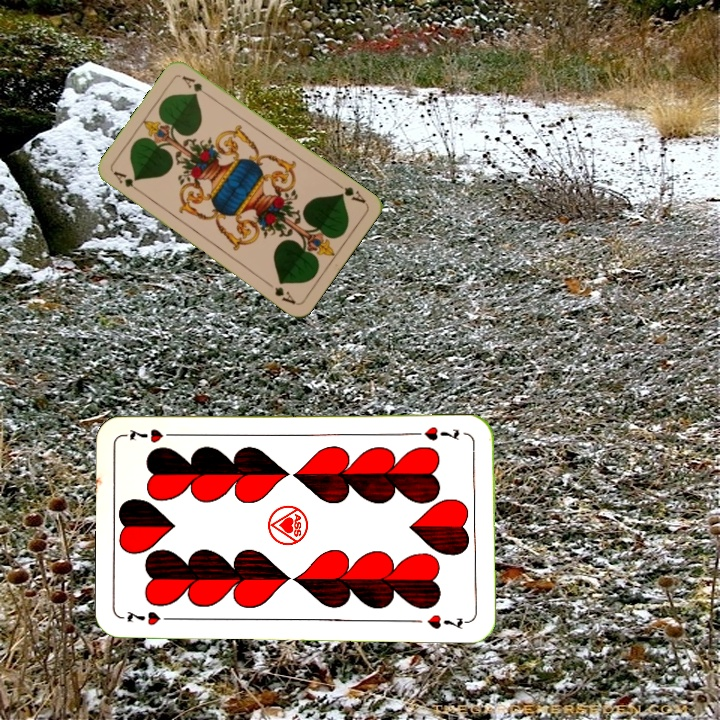GA: (109, 167, 145, 196), (332, 179, 368, 206)
H7: (123, 607, 179, 628), (411, 422, 462, 443)
